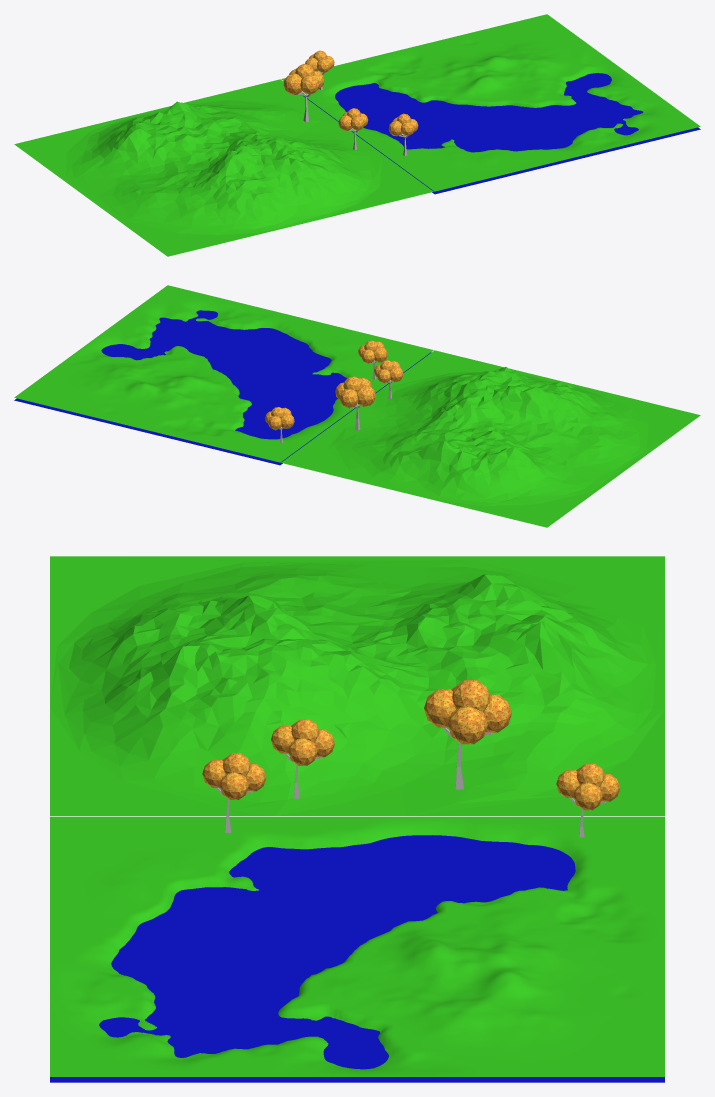
The model's file is house.obj.
3 renders of one model, top to bottom at view 1: azimuth 30°, elevation 25°; view 2: azimuth 150°, elevation 25°; view 3: azimuth 270°, elevation 25°, orthographic. The views are drawn at different scales.
Parts seen in each view (by area): view 1: Landscape, Landscape.001, Landscape_plane, tronco.002, tronco, tronco.001, tronco.003; view 2: Landscape, Landscape.001, Landscape_plane, tronco.002, tronco, tronco.001, tronco.003; view 3: Landscape, Landscape.001, Landscape_plane, tronco.002, tronco, tronco.001, tronco.003.
Part boxes in pixels (bbox=[...]): Landscape: bbox=[14, 79, 433, 256]; Landscape.001: bbox=[281, 14, 700, 191]; Landscape_plane: bbox=[283, 73, 700, 194]; tronco.002: bbox=[283, 64, 324, 122]; tronco: bbox=[388, 113, 418, 155]; tronco.001: bbox=[338, 108, 368, 149]; tronco.003: bbox=[305, 50, 334, 89]; Landscape: bbox=[281, 350, 700, 527]; Landscape.001: bbox=[14, 285, 433, 462]; Landscape_plane: bbox=[14, 310, 431, 465]; tronco.002: bbox=[335, 376, 375, 430]; tronco: bbox=[358, 340, 387, 379]; tronco.001: bbox=[374, 360, 403, 398]; tronco.003: bbox=[265, 407, 294, 443]; Landscape: bbox=[50, 556, 664, 816]; Landscape.001: bbox=[50, 817, 664, 1076]; Landscape_plane: bbox=[50, 835, 664, 1082]; tronco.002: bbox=[424, 680, 511, 789]; tronco: bbox=[202, 753, 266, 832]; tronco.001: bbox=[271, 719, 334, 798]; tronco.003: bbox=[556, 763, 620, 837].
Bounding box in the file's own units: 2.76 × 0.4486 × 1.38.
